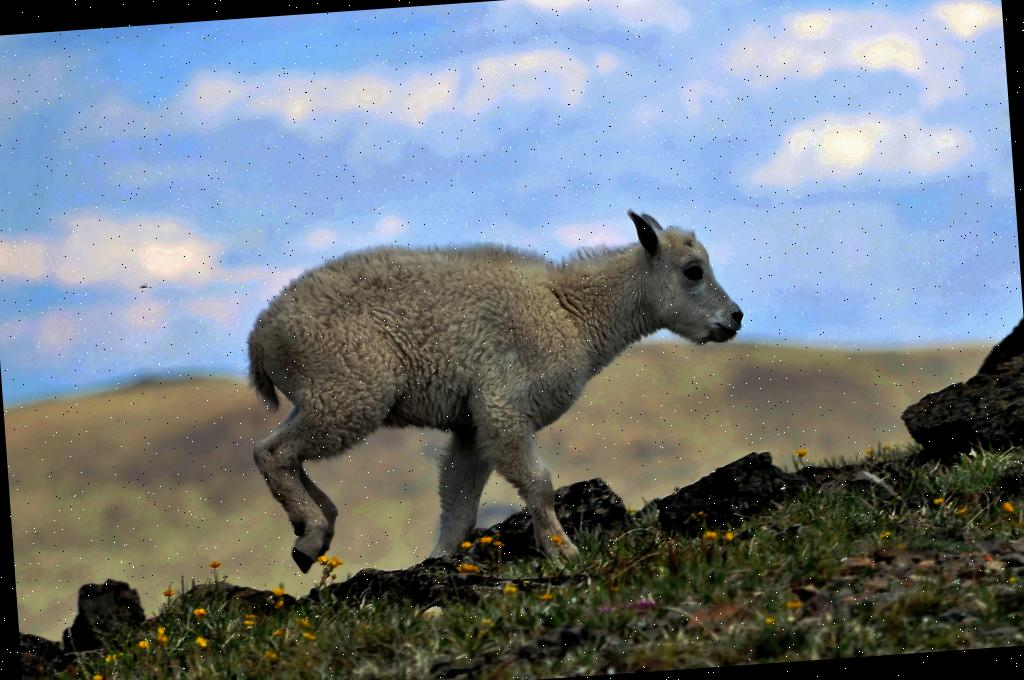Sheep: (238, 199, 759, 590)
